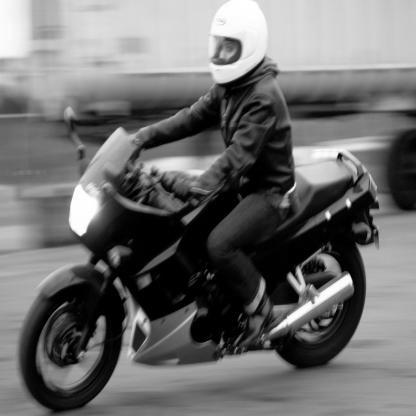moto: (12, 121, 416, 410)
